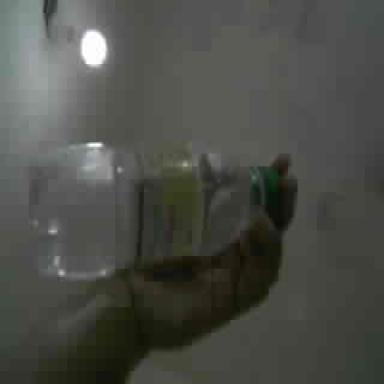bottle: (29, 144, 280, 278)
